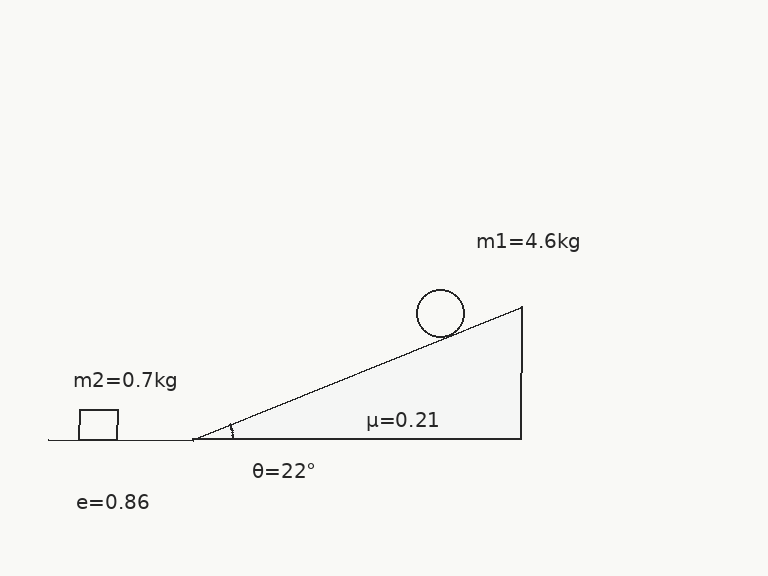ball: (414, 287, 466, 339)
block: (76, 408, 120, 441)
ramp: (191, 305, 522, 441)
